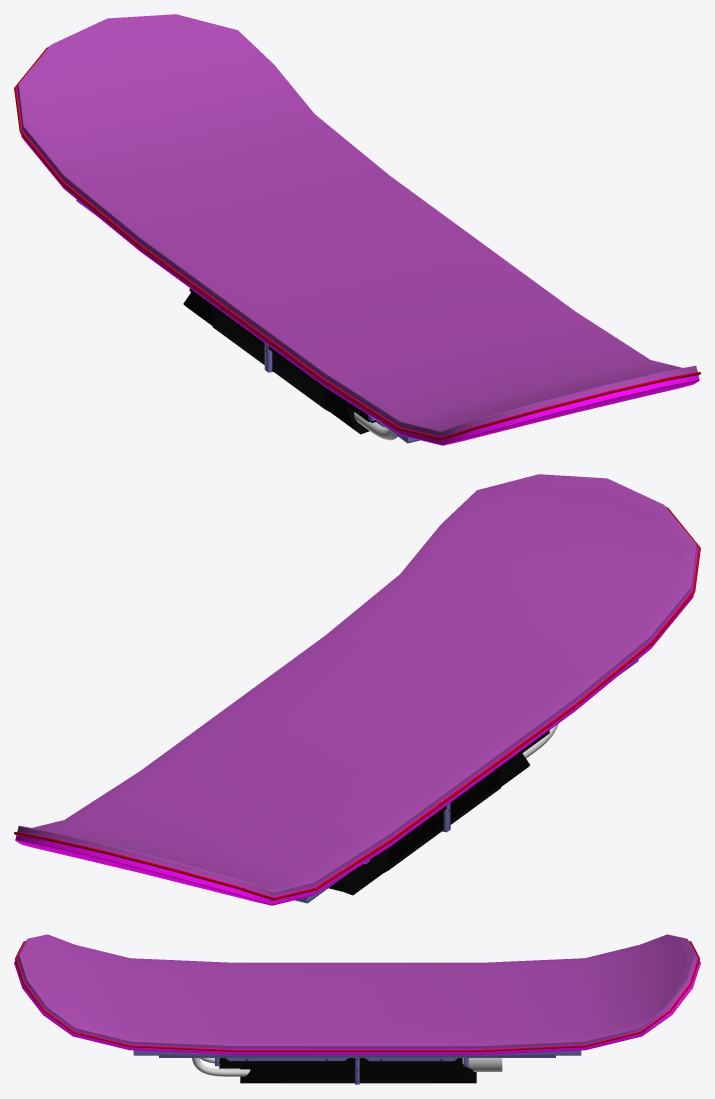
File: hoverboard.glb
3 views of the same model, one above another, from view 1: azimuth 30°, elevation 25°; view 2: azimuth 150°, elevation 25°; view 3: azimuth 270°, elevation 25° (orthographic). The views are drawn at different scales.
Visible parts, largest first — view 1: polySurface2; view 2: polySurface2; view 3: polySurface2.
Boxes of the visible parts, x1=… form: polySurface2: x1=14, y1=14, x2=700, y2=445; polySurface2: x1=14, y1=474, x2=700, y2=905; polySurface2: x1=14, y1=934, x2=700, y2=1084.
Size of the model in its own units: 0.1282 by 0.0727 by 0.442.
